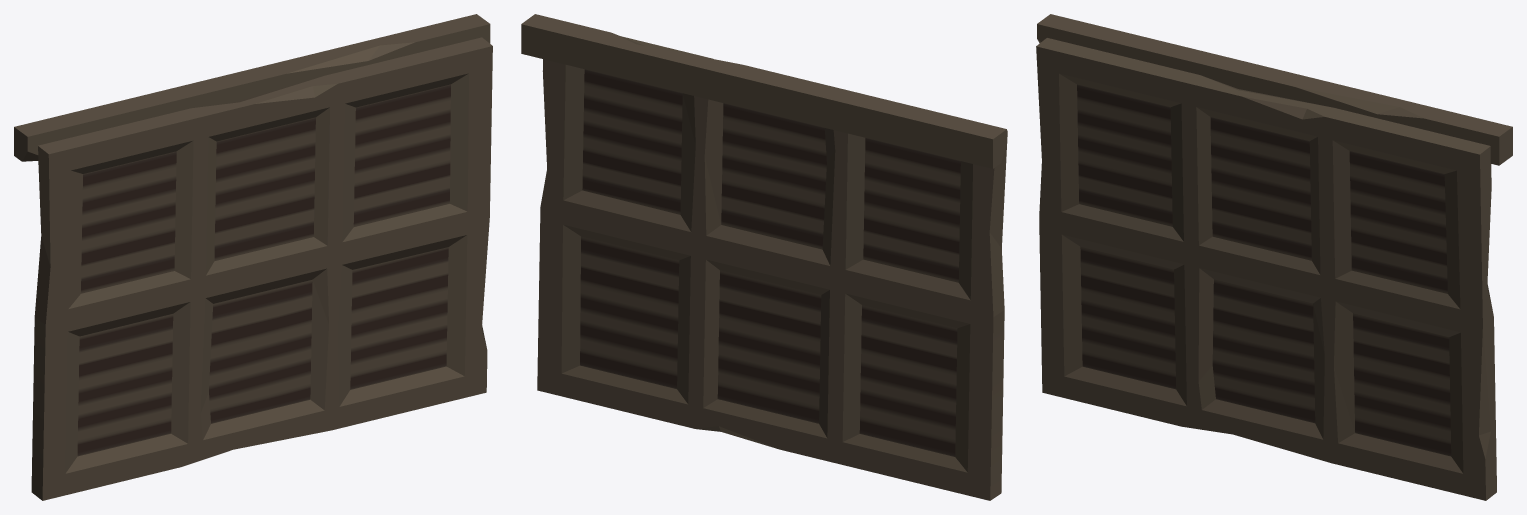
The model's file is SM_Bld_Window_Shutter_02.glb.
The picture shows the model from 3 angles, left to right: view 1: azimuth 30°, elevation 25°; view 2: azimuth 150°, elevation 25°; view 3: azimuth 330°, elevation 25°; orthographic projection. The views are drawn at different scales.
Parts seen in each view (by area): view 1: SM_Bld_Window_Shutter_02; view 2: SM_Bld_Window_Shutter_02; view 3: SM_Bld_Window_Shutter_02.
Boxes of the visible parts, x1,y1,x2,y2 form: SM_Bld_Window_Shutter_02: (14, 14, 492, 500); SM_Bld_Window_Shutter_02: (521, 14, 1007, 500); SM_Bld_Window_Shutter_02: (1036, 14, 1512, 500).
Bounding box in the file's own units: 2.43 × 1.82 × 0.2239.
1 material, 1 textured.
